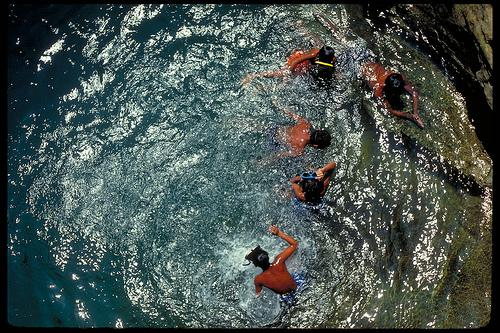swimmer: (361, 59, 426, 130), (245, 224, 297, 296), (269, 107, 334, 161), (290, 160, 336, 202), (282, 46, 341, 77)
